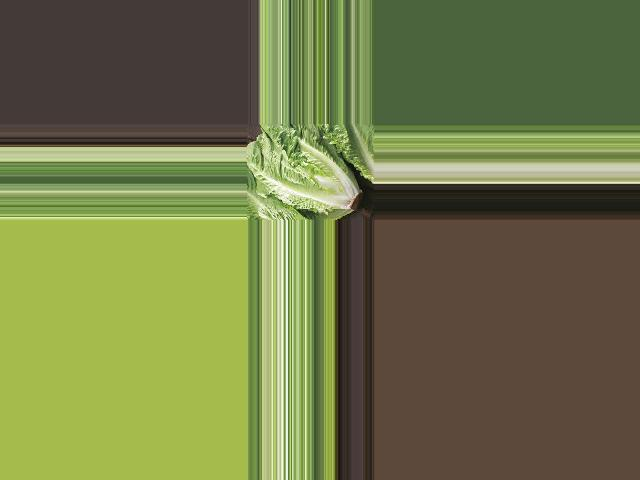lettuce: (248, 130, 367, 221)
